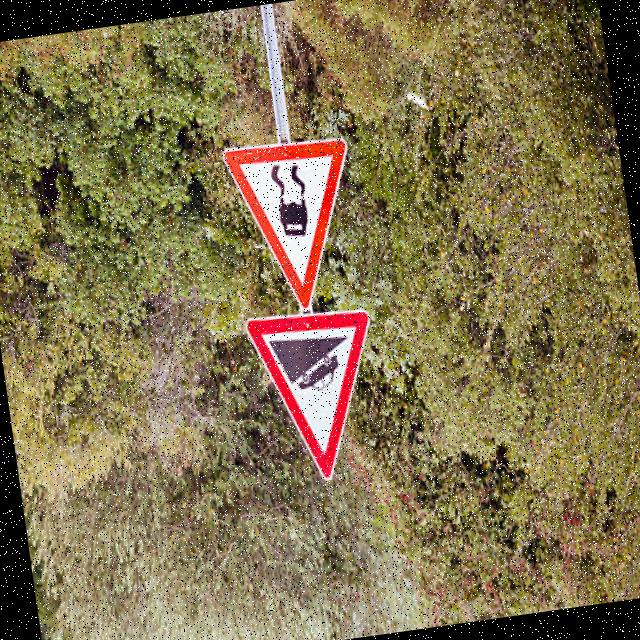road_slippery: (218, 126, 367, 317)
